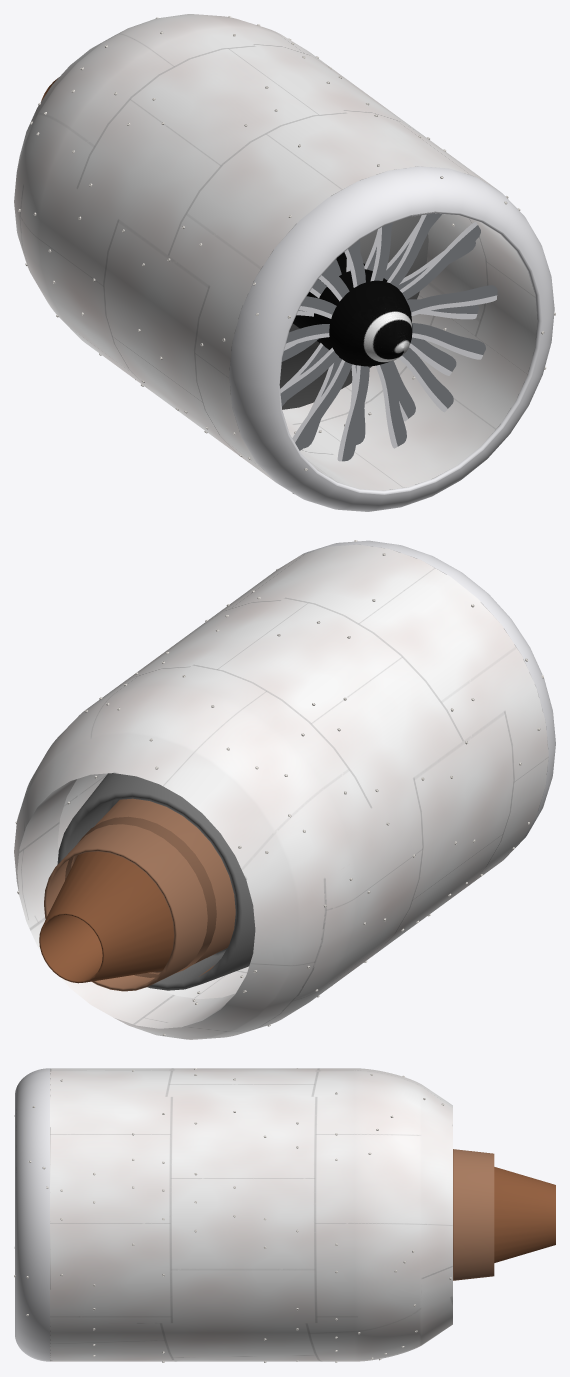
File: jet_engine_textured.glb
3 views of the same model, one above another, from view 1: azimuth 30°, elevation 25°; view 2: azimuth 150°, elevation 25°; view 3: azimuth 270°, elevation 25° (orthographic). The views are drawn at different scales.
Parts seen in each view (by area): view 1: Body, more spin weeeeeeeeeeeeeee, spin weeeee, heat thing idk; view 2: Body, heat thing idk; view 3: Body, heat thing idk.
Part boxes in pixels (x1,y1,x2,y2): Body: (14,14,554,511); more spin weeeeeeeeeeeeeee: (280,213,497,461); spin weeeee: (293,252,412,366); heat thing idk: (41,77,428,409); Body: (14,540,555,1039); heat thing idk: (39,773,255,991); Body: (15,1068,452,1361); heat thing idk: (453,1149,555,1280).
Bounding box in the file's own units: 2.01 × 2.01 × 3.69.
9 materials, 2 textured.
